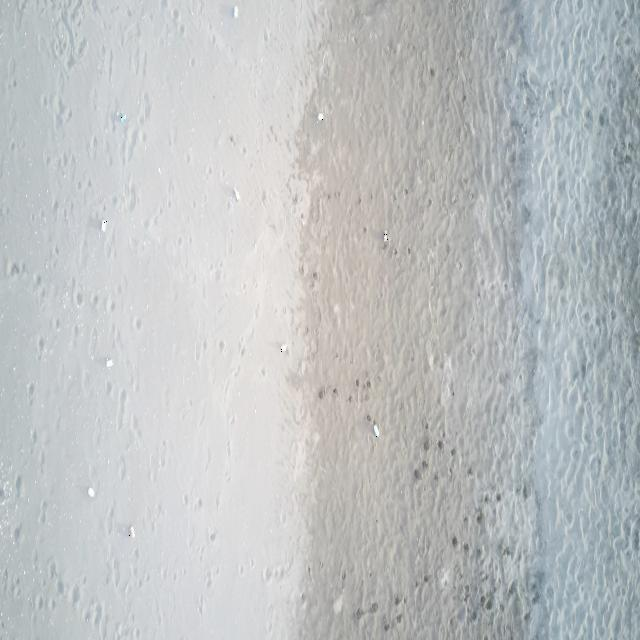tin-and-aluminum-cans: (233, 185, 240, 202), (373, 423, 380, 438), (105, 358, 114, 369), (233, 5, 239, 21), (280, 344, 288, 355), (88, 487, 95, 499), (317, 111, 324, 123), (101, 219, 107, 233), (128, 526, 134, 540), (383, 229, 388, 243), (121, 114, 127, 124)
